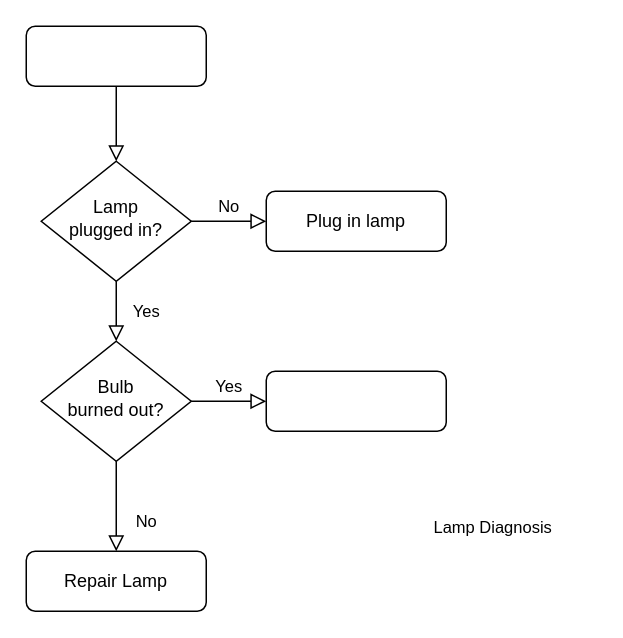
Some shapes in this 623 by 638 pixel diagram are drawn without their labels. The centre of each missing label's shape, as x and y in pixels:
"Lamp doesn't work" belongs at point 115,55.
"Replace Bulb" belongs at point 355,400.
